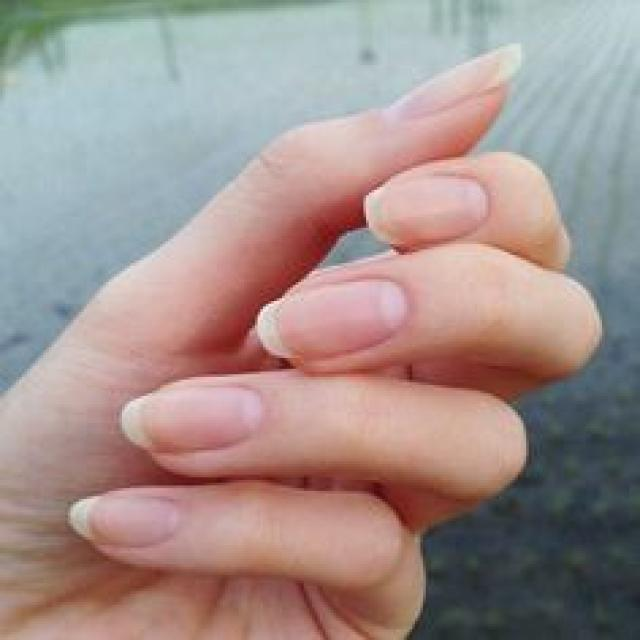Fingernail: (257, 280, 408, 361), (387, 41, 522, 125), (120, 388, 262, 452), (363, 176, 491, 246), (67, 495, 179, 547)
